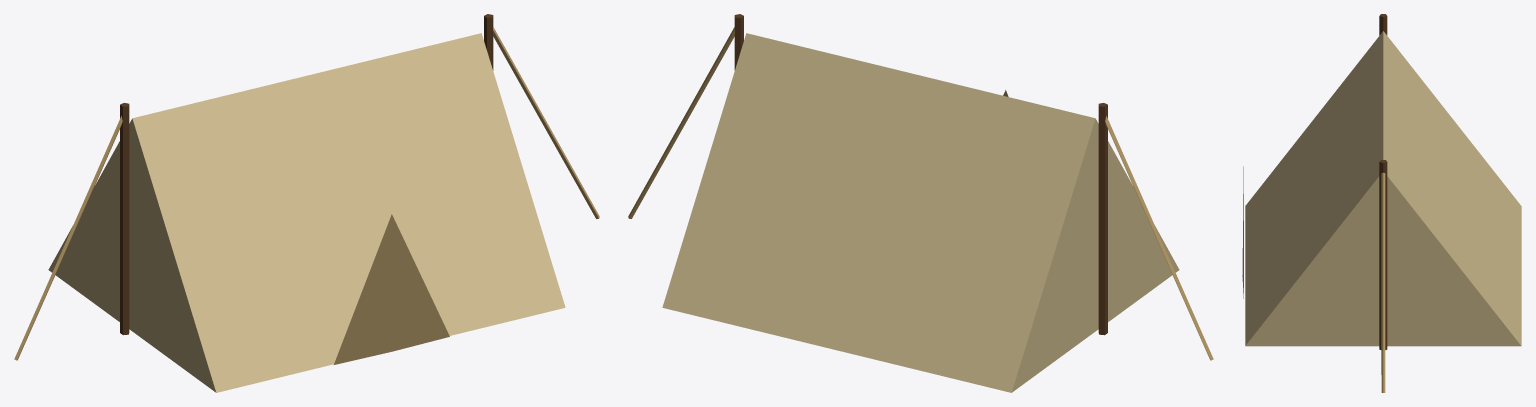
File: tent.glb
3 views of the same model, side by side, from view 1: azimuth 30°, elevation 25°; view 2: azimuth 150°, elevation 25°; view 3: azimuth 270°, elevation 25° (orthographic). The views are drawn at different scales.
Parts seen in each view (by area): view 1: canvas-col, khaki_dark, wood_dark, rope; view 2: canvas-col, wood_dark, rope; view 3: canvas-col, wood_dark, rope.
Boxes of the visible parts, <box> form: canvas-col: <box>48,33,565,392</box>; khaki_dark: <box>334,214,449,364</box>; wood_dark: <box>120,14,493,335</box>; rope: <box>14,27,599,360</box>; canvas-col: <box>662,33,1179,392</box>; wood_dark: <box>734,14,1107,335</box>; rope: <box>628,27,1213,360</box>; canvas-col: <box>1245,31,1521,346</box>; wood_dark: <box>1379,14,1387,349</box>; rope: <box>1381,172,1385,392</box>.
Size of the model in its own units: 4.02 by 1.51 by 2.02.
